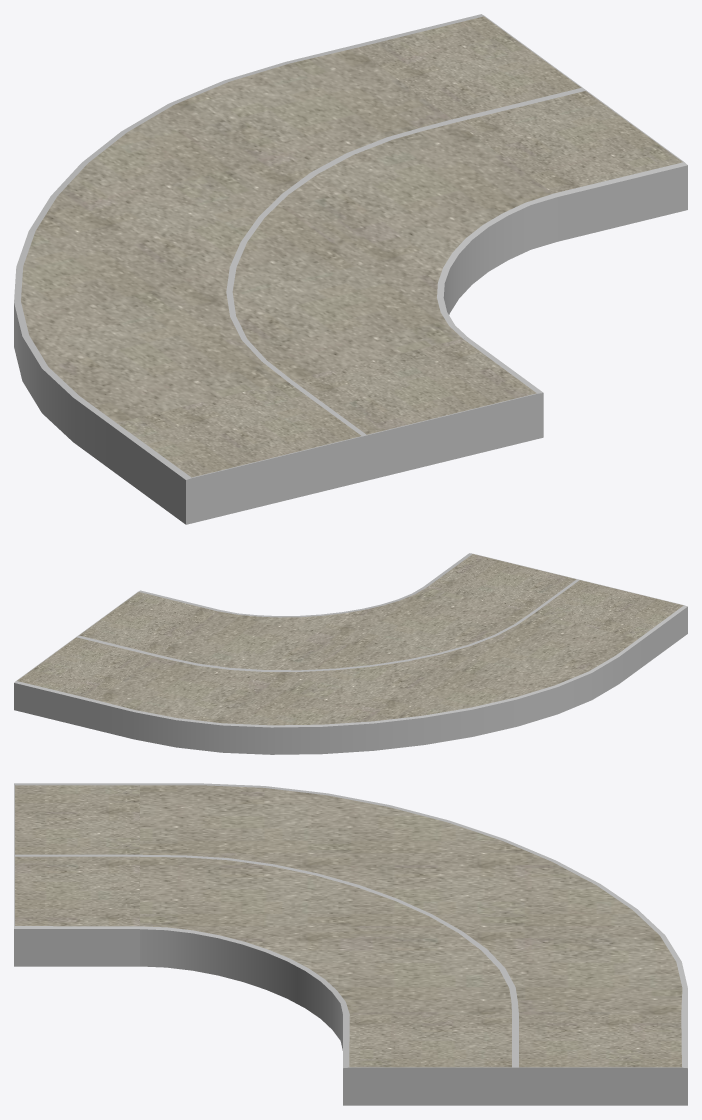
Rendered from road_01_cv01.fbx.
3 renders of one model, top to bottom at view 1: azimuth 30°, elevation 25°; view 2: azimuth 150°, elevation 25°; view 3: azimuth 270°, elevation 25°, orthographic. The views are drawn at different scales.
Parts seen in each view (by area): view 1: road_01_cv01; view 2: road_01_cv01; view 3: road_01_cv01.
Boxes of the visible parts, box(x1,y1,x2,y2) form: road_01_cv01: box(14, 14, 687, 524); road_01_cv01: box(14, 553, 687, 754); road_01_cv01: box(14, 783, 687, 1105).
Size of the model in its own units: 32.24 by 2 by 32.25.
